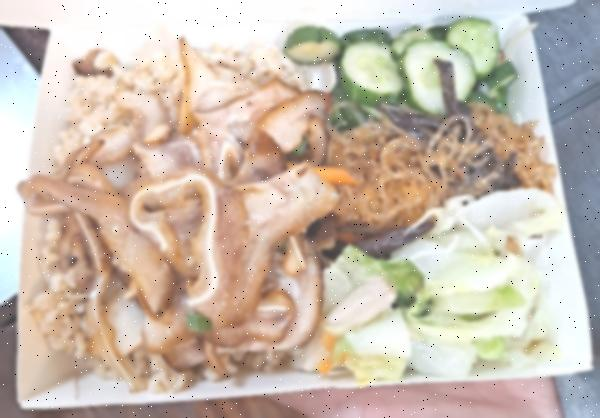box: (6, 18, 597, 408)
brown rice: (38, 33, 320, 390)
pig ear: (95, 114, 325, 372)
side dish: (323, 235, 570, 365), (323, 110, 552, 226), (316, 22, 524, 117)
